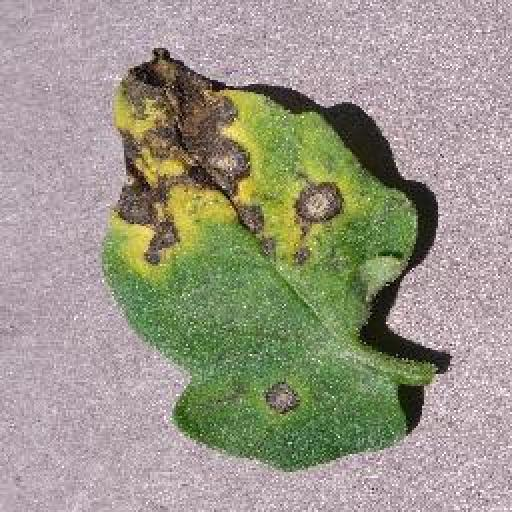Septoria: (100, 47, 418, 465)
